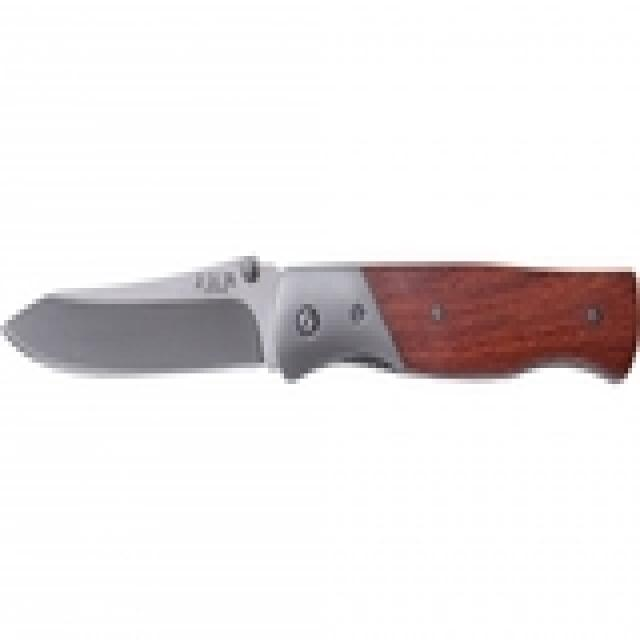Knife: (2, 262, 638, 394)
